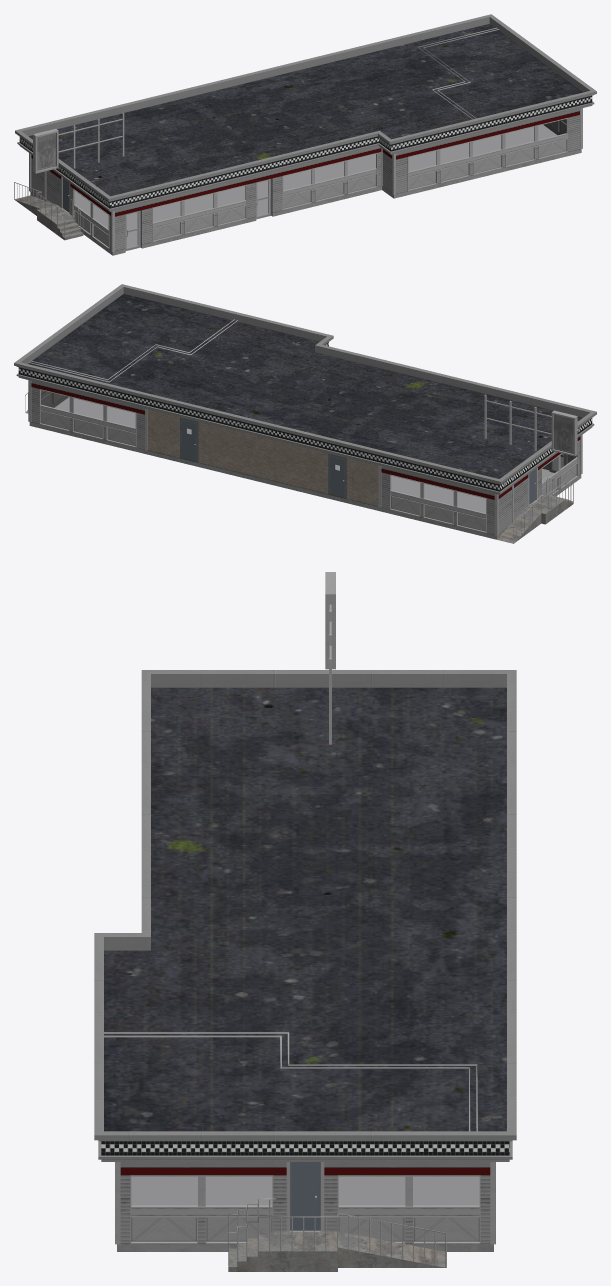
Rendered from strip_diner.glb.
3 views of the same model, one above another, from view 1: azimuth 30°, elevation 25°; view 2: azimuth 150°, elevation 25°; view 3: azimuth 270°, elevation 25° (orthographic). The views are drawn at different scales.
Parts seen in each view (by area): view 1: strip_diner; view 2: strip_diner; view 3: strip_diner.
Part boxes in pixels (bbox=[...]): strip_diner: bbox=[14, 14, 596, 255]; strip_diner: bbox=[14, 284, 596, 543]; strip_diner: bbox=[94, 572, 516, 1271].
Size of the model in its own units: 31.5 by 5.8 by 11.2.
Materials: 2 (1 with a texture image).
